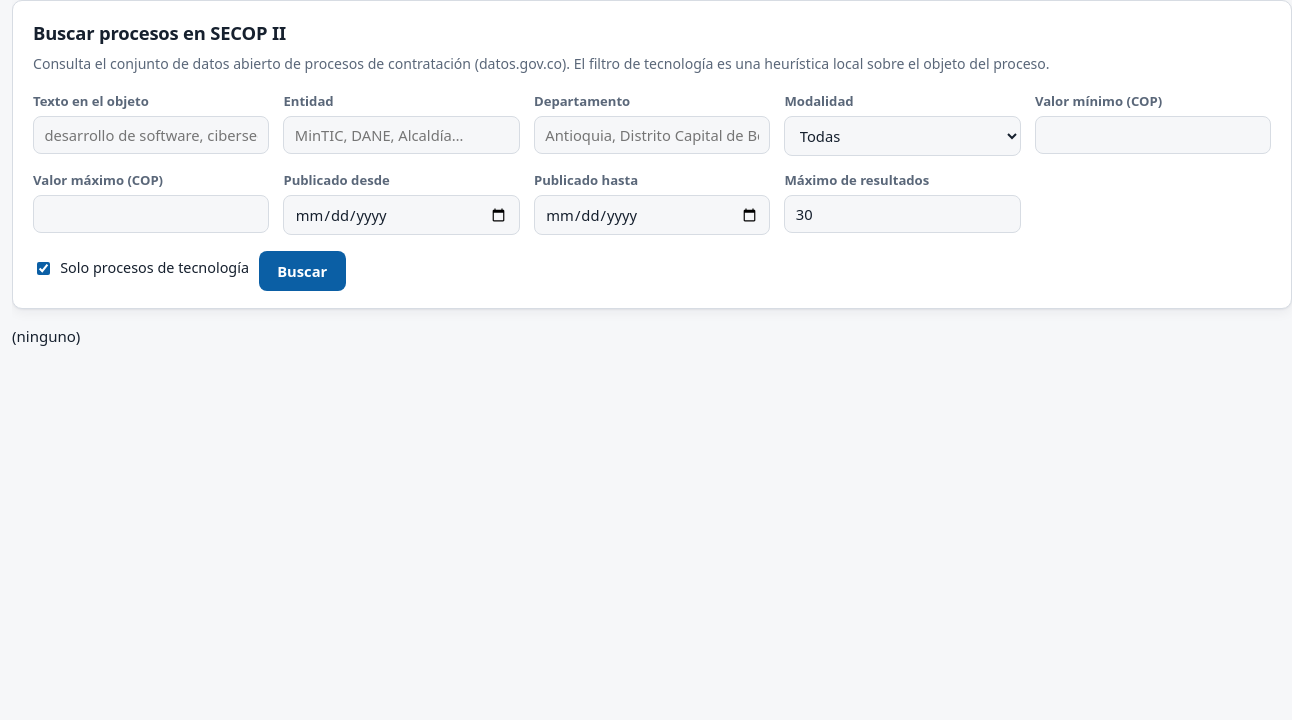
Scenario: vista Buscar › muestra los procesos con su valor y fecha en formato colombiano
The width and height of the screenshot is (1292, 720).
Click the button "Buscar". click: (302, 271)
box: [259,251,346,291]
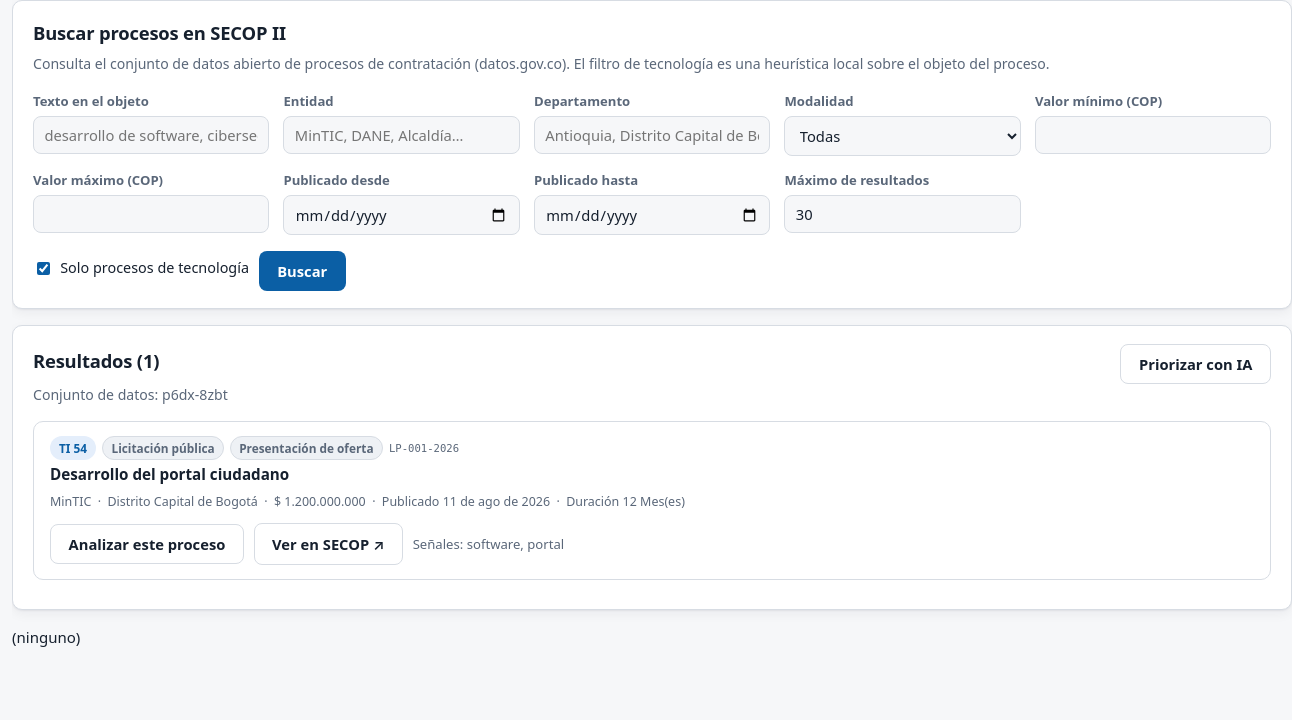
Expected: the text "Desarrollo del portal ciudadano" is shown, [50,464,289,484]
Expected: the text "$ 1.200.000.000" is shown, [274,492,366,512]
Expected: the text "Publicado 11 de ago de 2026" is shown, [382,492,550,512]
